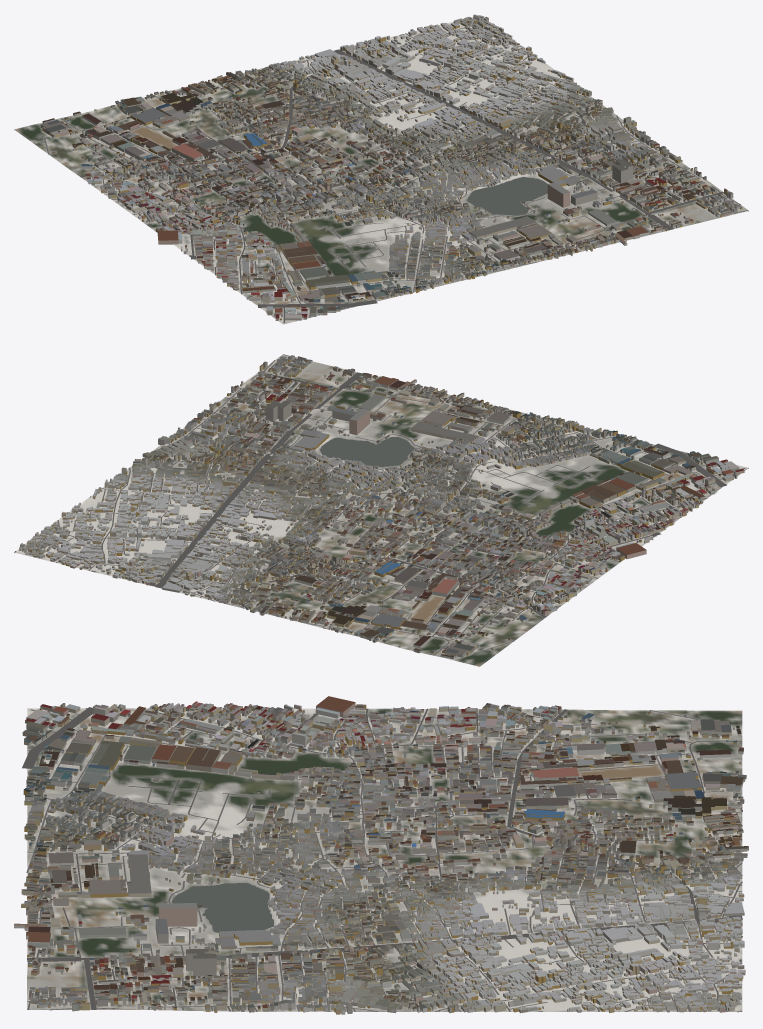
The picture shows the model from 3 angles, top to bottom: view 1: azimuth 30°, elevation 25°; view 2: azimuth 150°, elevation 25°; view 3: azimuth 270°, elevation 25°; orthographic projection. The views are drawn at different scales.
Parts seen in each view (by area): view 1: buildings, ground, roads, water; view 2: buildings, ground, roads, water; view 3: buildings, ground, roads, water.
Part boxes in pixels (x1,y1,x2,y2): buildings: (40,14,742,320); ground: (14,17,748,324); roads: (44,15,748,322); water: (399,34,547,215); buildings: (19,355,744,658); ground: (14,354,748,666); roads: (14,354,745,657); water: (91,437,414,571); buildings: (14,696,748,1014); ground: (27,708,742,1011); roads: (22,707,742,1012); water: (172,883,741,962).
Bounding box in the file's own units: 1446 × 49.43 × 1439.
